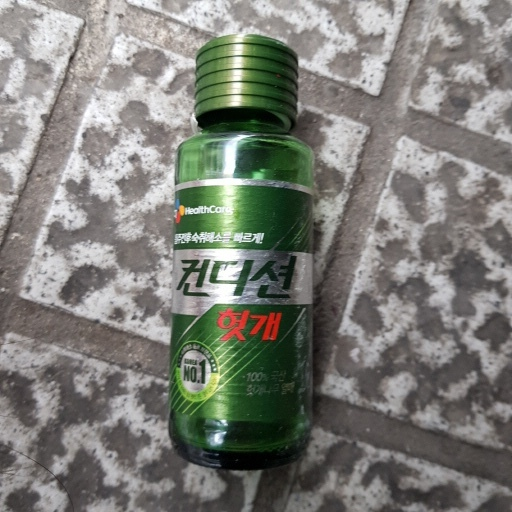Glass_4: (167, 30, 319, 468)
